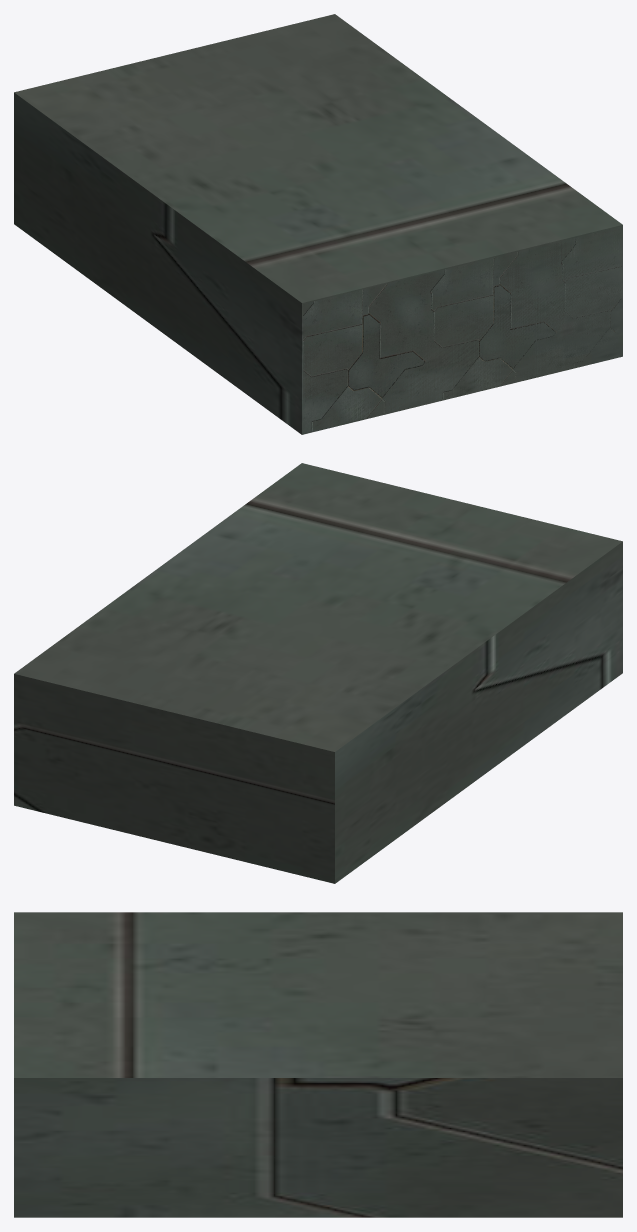
The model's file is level1.fbx.
3 renders of one model, top to bottom at view 1: azimuth 30°, elevation 25°; view 2: azimuth 150°, elevation 25°; view 3: azimuth 270°, elevation 25°, orthographic. The views are drawn at different scales.
Visible parts, largest first — view 1: room; view 2: room; view 3: room.
Part boxes in pixels (x1,y1,x2,y2): room: (14, 14, 622, 434); room: (14, 463, 622, 883); room: (14, 912, 622, 1217).
Size of the model in its own units: 1873 by 735 by 2910.
7 materials, 2 textured.
